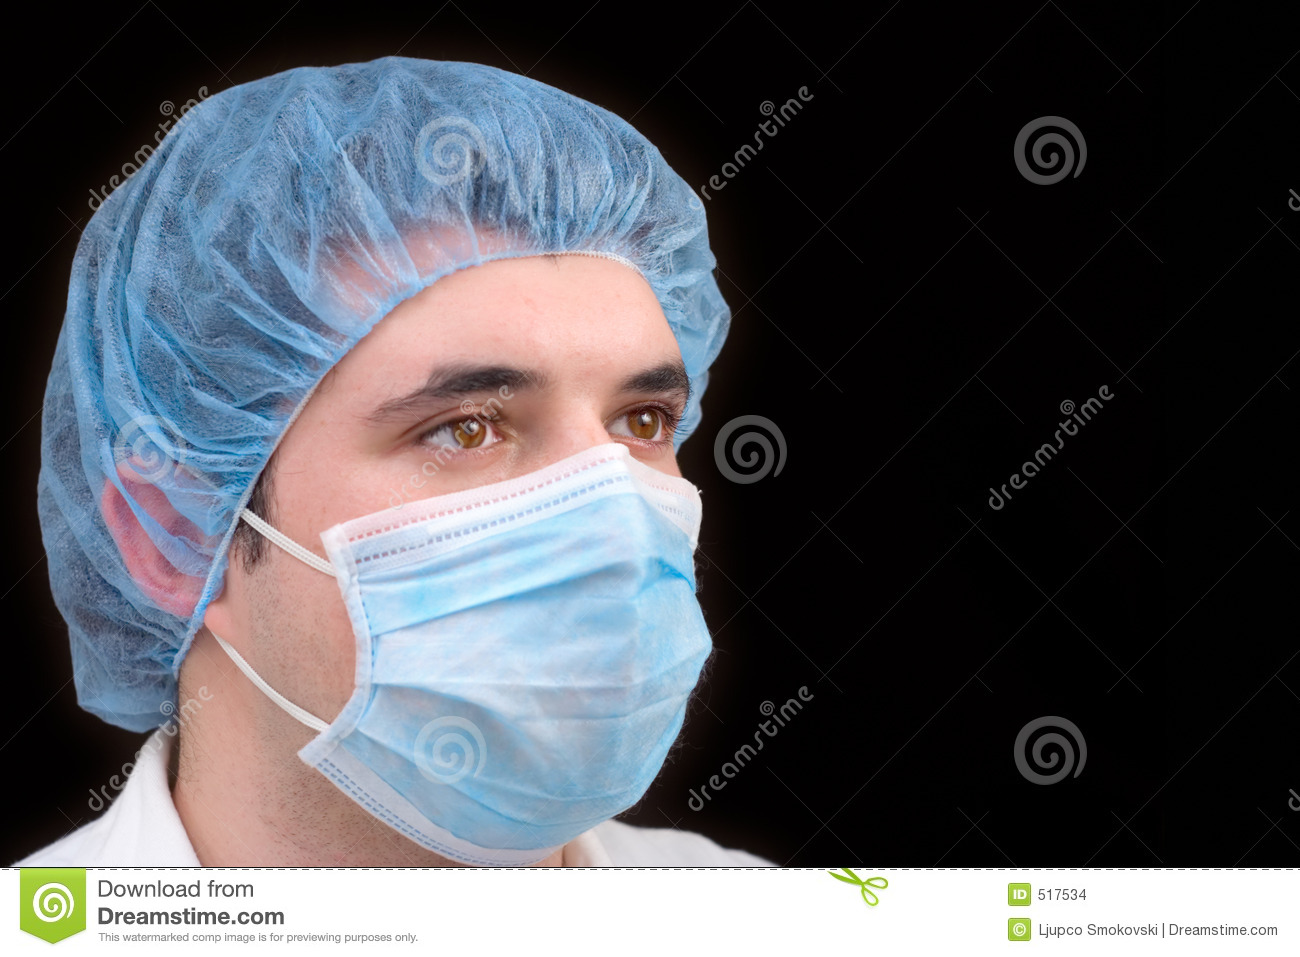mask: (311, 474, 742, 846)
